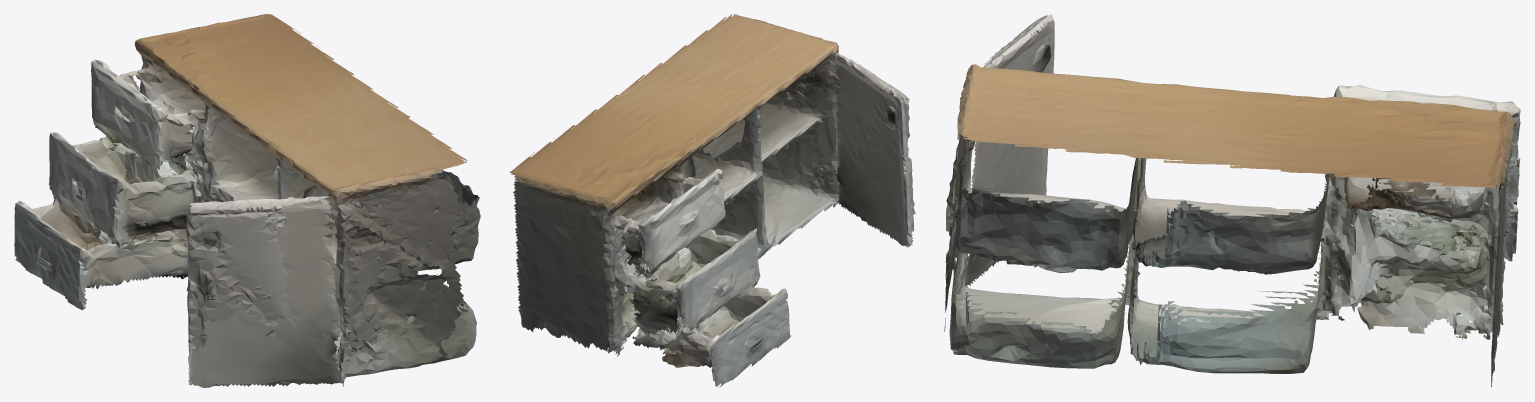
The model's file is cab1.glb.
The picture shows the model from 3 angles, left to right: view 1: azimuth 30°, elevation 25°; view 2: azimuth 150°, elevation 25°; view 3: azimuth 270°, elevation 25°; orthographic projection. The views are drawn at different scales.
Parts seen in each view (by area): view 1: part_0_aligned, part_4_aligned, part_1_aligned, part_3_aligned, part_2_aligned; view 2: part_0_aligned, part_4_aligned, part_1_aligned, part_3_aligned, part_2_aligned; view 3: part_0_aligned, part_4_aligned, part_2_aligned, part_1_aligned, part_3_aligned.
Part boxes in pixels (x1,y1,x2,y2): part_0_aligned: (134,14,480,386); part_4_aligned: (186,196,342,387); part_1_aligned: (48,132,201,248); part_3_aligned: (14,201,188,310); part_2_aligned: (91,59,196,169); part_0_aligned: (509,14,839,356); part_4_aligned: (833,52,915,247); part_1_aligned: (624,228,760,336); part_3_aligned: (632,286,791,387); part_2_aligned: (620,169,725,282); part_0_aligned: (944,64,1516,386); part_4_aligned: (963,14,1054,287); part_2_aligned: (1333,85,1520,177); part_1_aligned: (1371,157,1520,249); part_3_aligned: (1460,204,1518,263).
Bounding box in the file's own units: 0.9554 × 0.7032 × 1.46.
